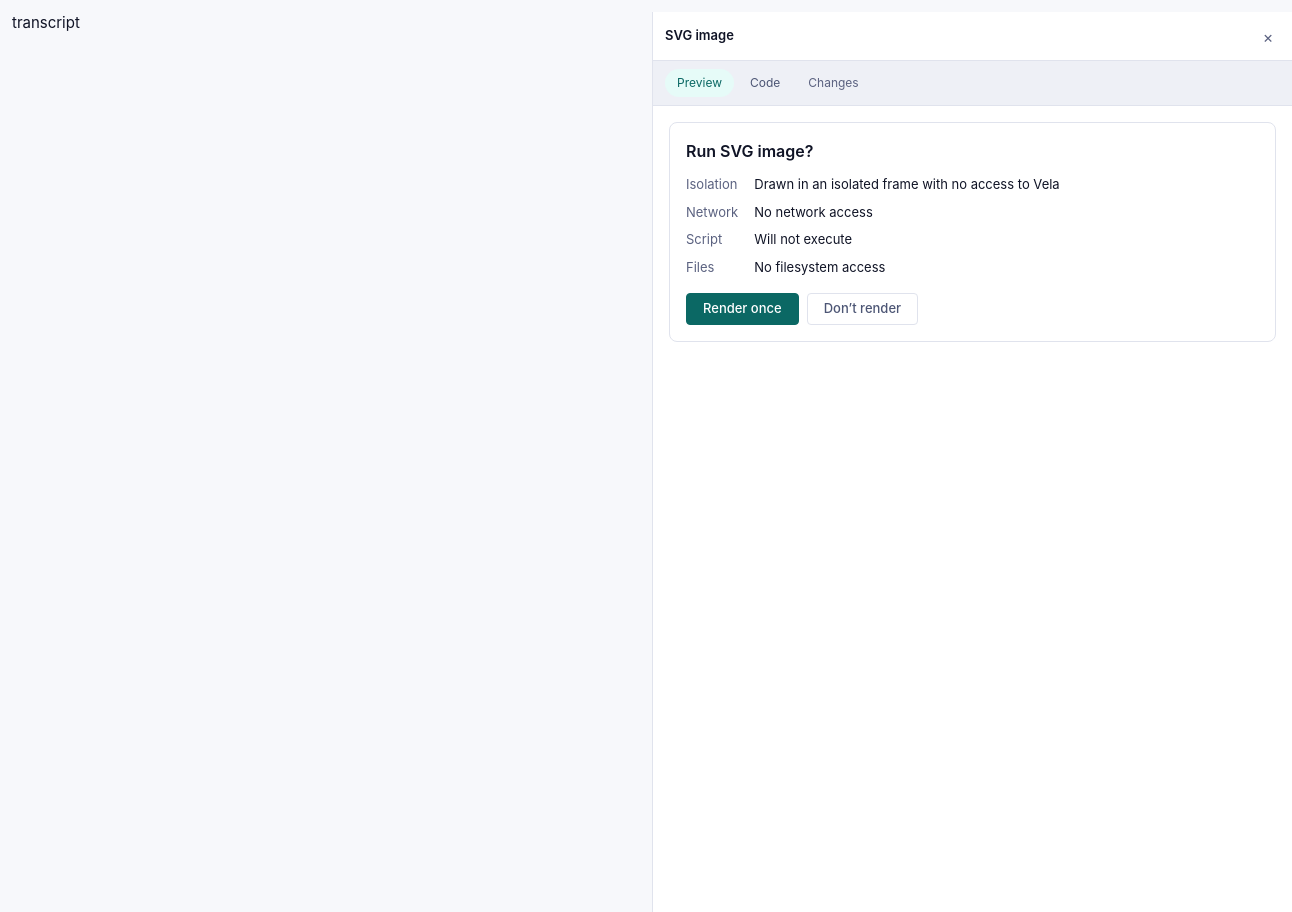
Test case: the source is always reachable, including where nothing can run › shows the code behind a tab beside the preview
This screenshot has width=1292, height=912.
Click the tab "Code".
click(765, 83)  # box x1=738 y1=69 x2=792 y2=97
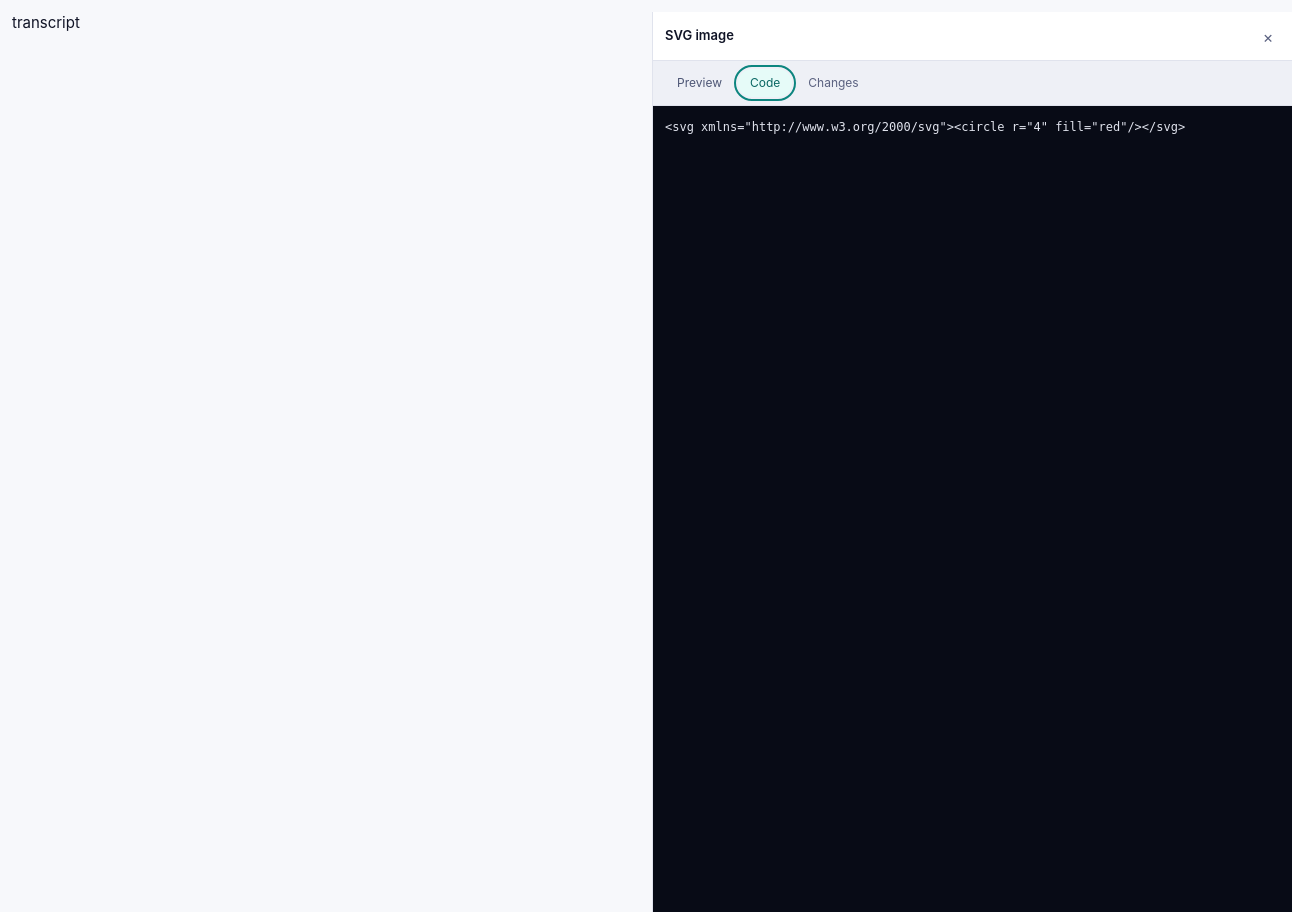
Expected: the element with test id "canvas-code" shows "circle r=\"4\" fill=\"red\"", x1=665 y1=120 x2=1185 y2=134
